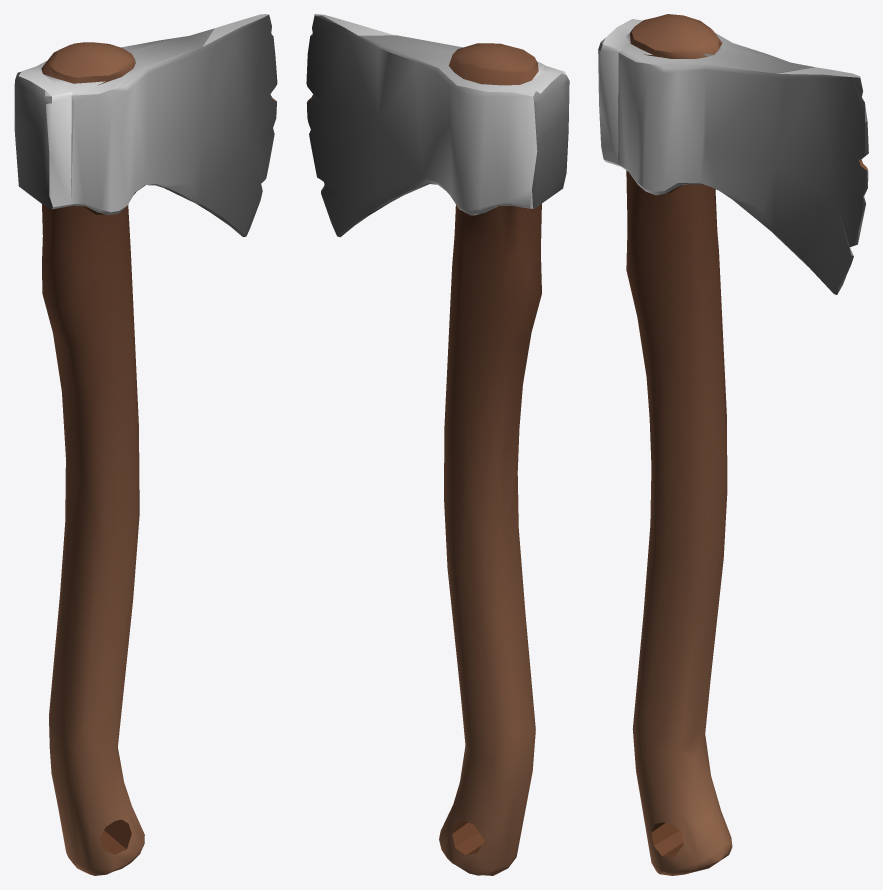
The model's file is Axe-1.glb.
The picture shows the model from 3 angles, left to right: view 1: azimuth 30°, elevation 25°; view 2: azimuth 150°, elevation 25°; view 3: azimuth 330°, elevation 25°; orthographic projection. The views are drawn at different scales.
Parts seen in each view (by area): view 1: Axe-1; view 2: Axe-1; view 3: Axe-1.
Part boxes in pixels (<box>): Axe-1: <box>14,14,277,875</box>; Axe-1: <box>306,14,569,875</box>; Axe-1: <box>598,14,868,875</box>.
Bounding box in the file's own units: 0.3772 × 1.18 × 0.1344.
Materials: 1 (1 with a texture image).
